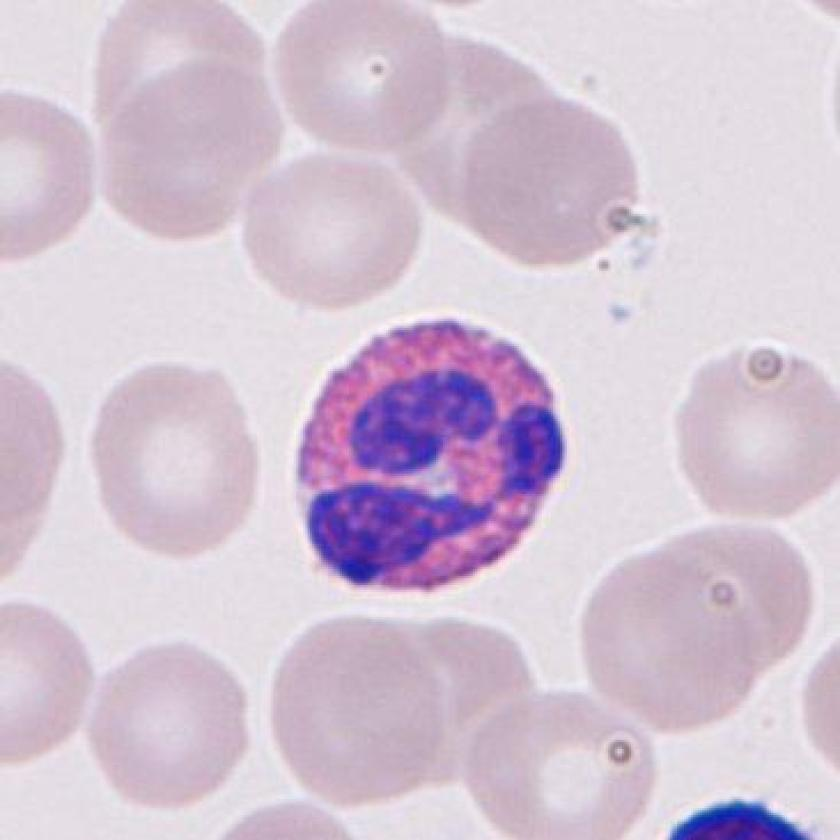eosinophil: (283, 306, 575, 609)
